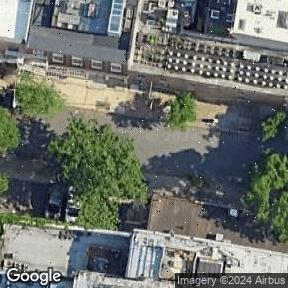vegetation: (41, 102, 157, 241), (247, 151, 288, 242), (7, 71, 69, 128), (158, 89, 206, 136), (0, 214, 48, 235), (0, 107, 19, 157), (0, 172, 8, 195)
